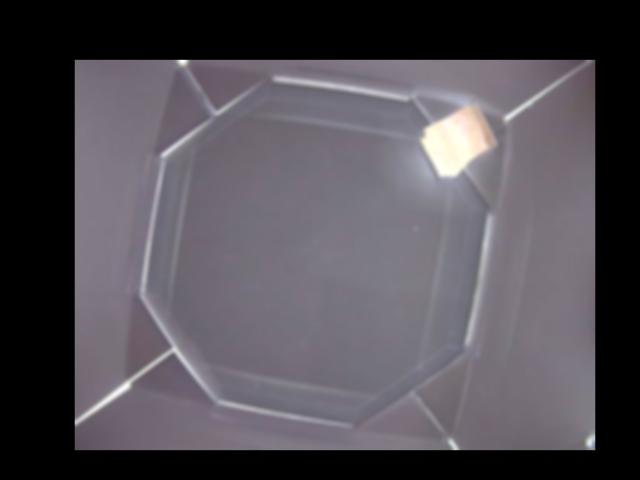China: (418, 103, 496, 180)
